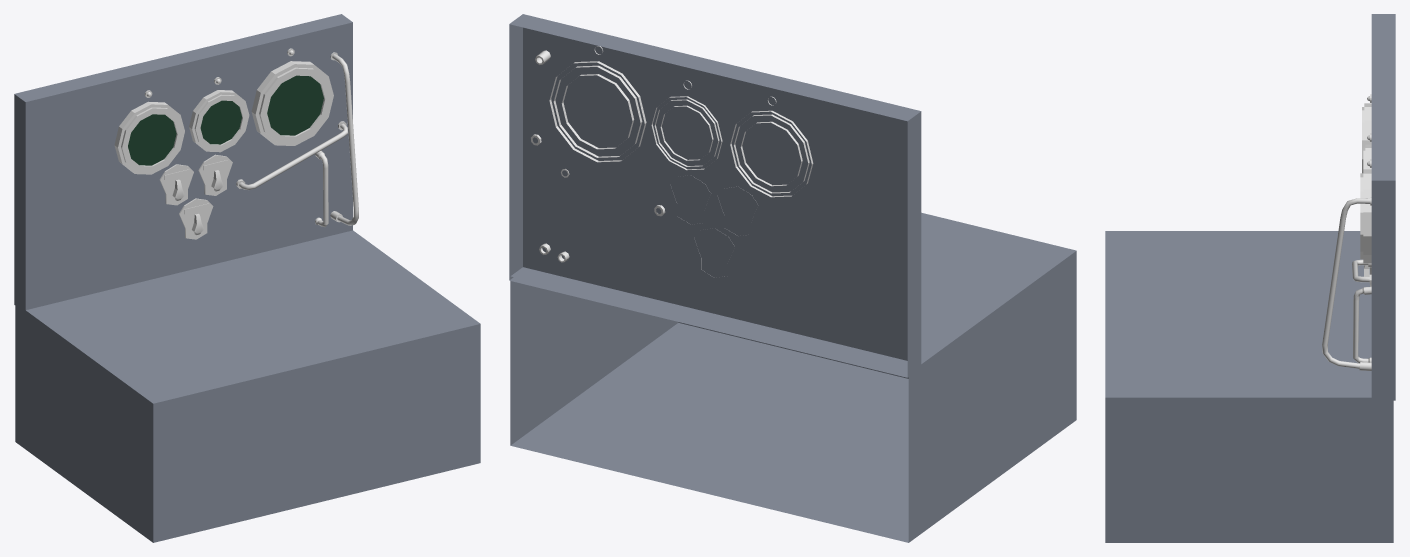
File: lab_eq01.fbx
3 views of the same model, side by side, from view 1: azimuth 30°, elevation 25°; view 2: azimuth 150°, elevation 25°; view 3: azimuth 270°, elevation 25° (orthographic). The views are drawn at different scales.
Visible parts, largest first — view 1: pCube5, pCube35, polySurface124, polySurface128, polySurface123, polySurface97, polySurface126, polySurface125, sweep21, polySurface127, polySurface96, sweep22 (+4 smaller); view 2: pCube5, pCube35, polySurface123, polySurface126; view 3: pCube5, pCube35, sweep21, polySurface125, sweep20.
Part boxes in pixels (x1,y1,x2,y2): pCube5: (15,230,480,542); pCube35: (14,14,352,310); polySurface124: (267,75,323,135); polySurface128: (128,114,176,165); polySurface123: (259,67,331,143); polySurface97: (200,100,241,144); polySurface126: (121,107,183,172); polySurface125: (251,61,333,145); sweep21: (330,52,358,225); polySurface127: (114,101,184,174); polySurface96: (194,94,247,150); sweep22: (236,121,347,190); pCube5: (510,212,1076,542); pCube35: (509,14,921,377); polySurface123: (553,65,642,157); polySurface126: (734,114,809,193); pCube5: (1105,231,1393,542); pCube35: (1371,14,1395,400); sweep21: (1322,197,1371,370); polySurface125: (1363,169,1371,263); sweep20: (1353,286,1371,363).
Size of the model in its own units: 6.85 by 6.94 by 5.04.
